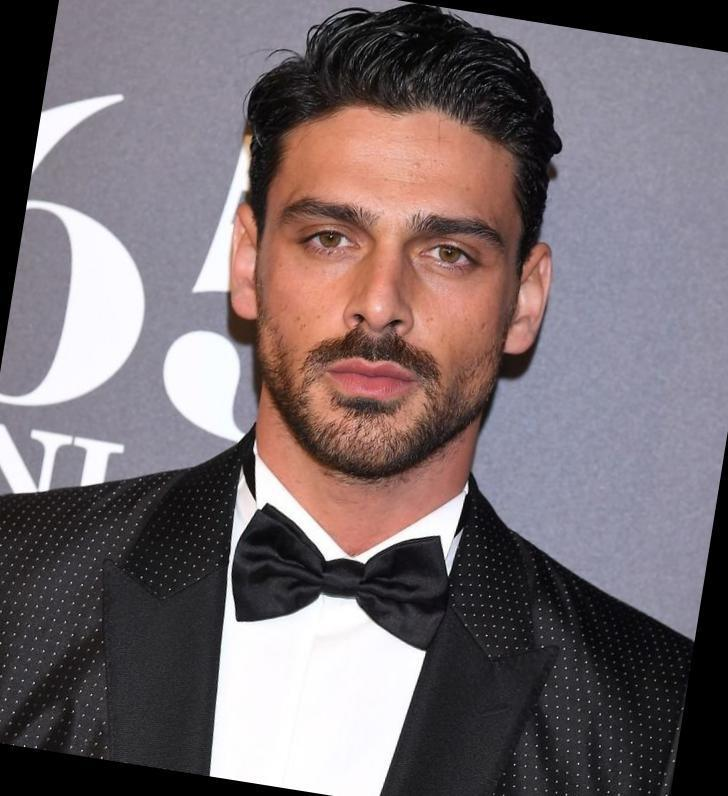Sober: (274, 134, 497, 455)
